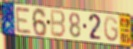2: (87, 13, 104, 42)
6: (31, 6, 48, 38)
8: (68, 12, 82, 40)
B: (50, 8, 67, 39)
E: (14, 5, 32, 36)
G: (103, 15, 120, 43)
